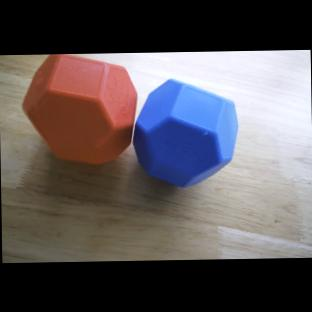V5_BLUE: (138, 76, 236, 189)
V5_RED: (25, 54, 137, 169)
pieces: (21, 52, 241, 194)
